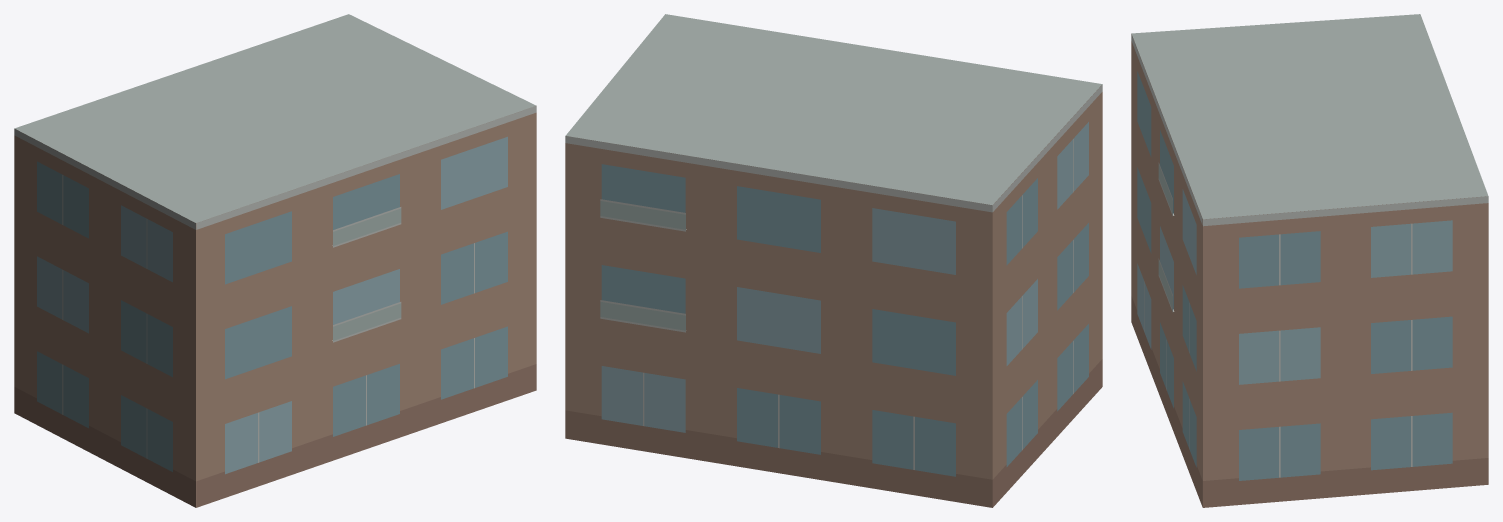
File: survey-upis-33007538.glb
3 views of the same model, side by side, from view 1: azimuth 30°, elevation 25°; view 2: azimuth 150°, elevation 25°; view 3: azimuth 270°, elevation 25° (orthographic). The views are drawn at different scales.
Parts seen in each view (by area): view 1: survey-upis-33007538.tmp; view 2: survey-upis-33007538.tmp; view 3: survey-upis-33007538.tmp.
Part boxes in pixels (box(x1,y1,x2,y2)): survey-upis-33007538.tmp: box(14, 14, 536, 507); survey-upis-33007538.tmp: box(565, 14, 1102, 507); survey-upis-33007538.tmp: box(1131, 14, 1488, 507).
Bounding box in the file's own units: 15.57 × 10.2 × 11.45.
